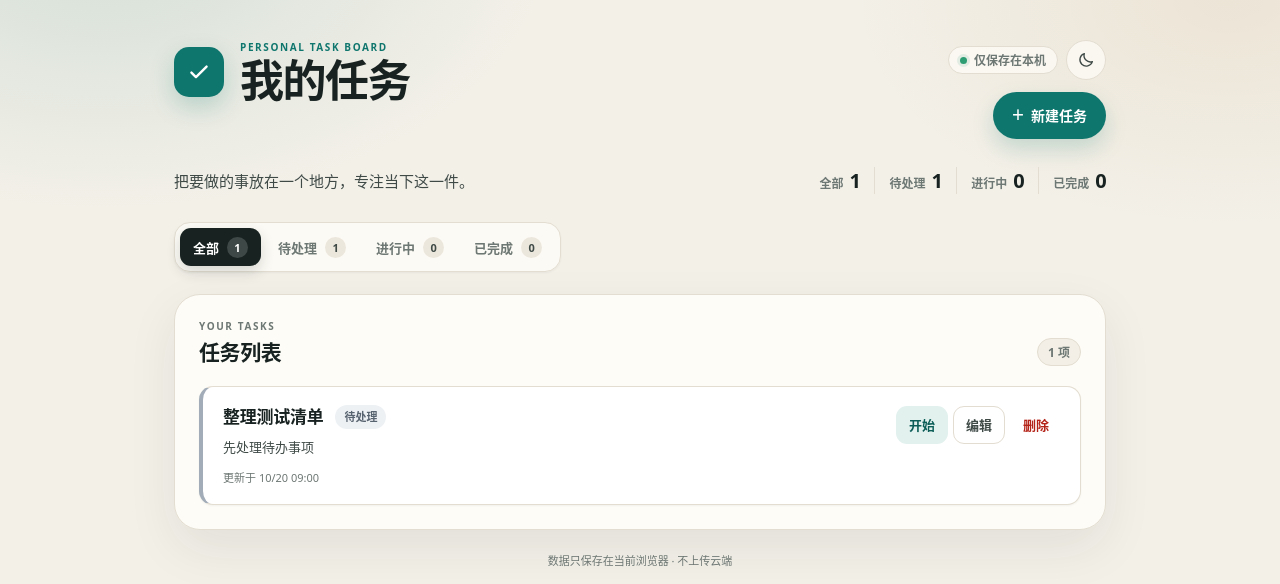
Test: status transitions and feedback › cycles through todo, doing, and done, then reopens
Expected: the text "待处理" next to "整理测试清单" is shown, [344, 409, 378, 424]
Click the button with aria-label "开始：".
click(922, 425)  # box [896, 406, 948, 444]
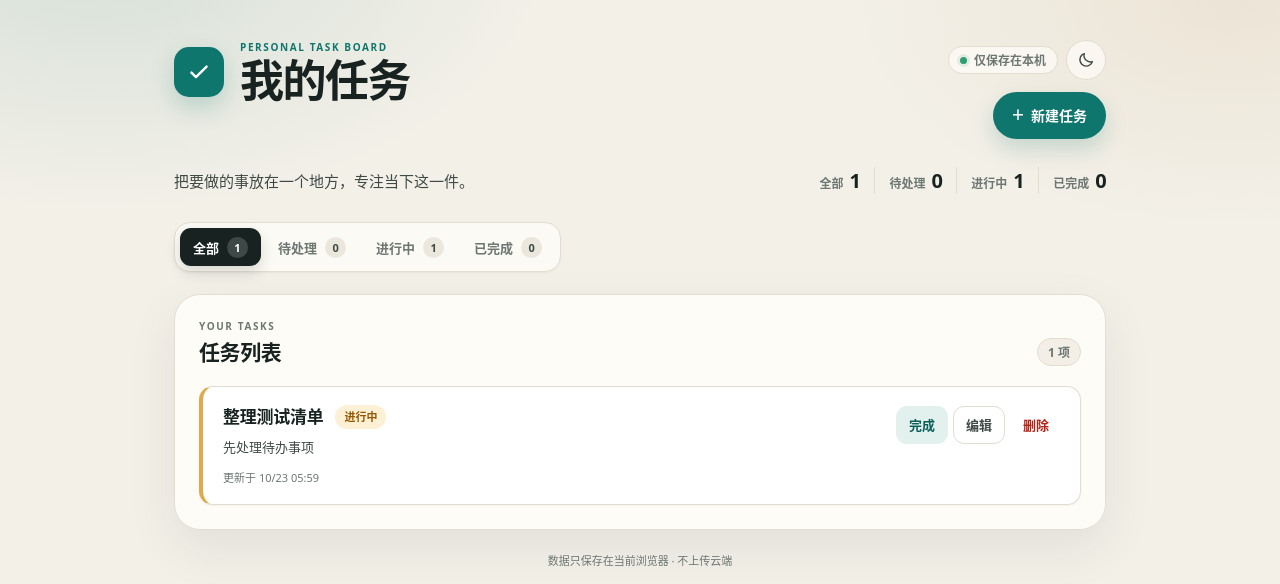
Expected: the text "进行中" next to "整理测试清单" is shown, [344, 409, 378, 424]
Click the button with aria-label "完成：".
click(922, 425)  # box [896, 406, 948, 444]
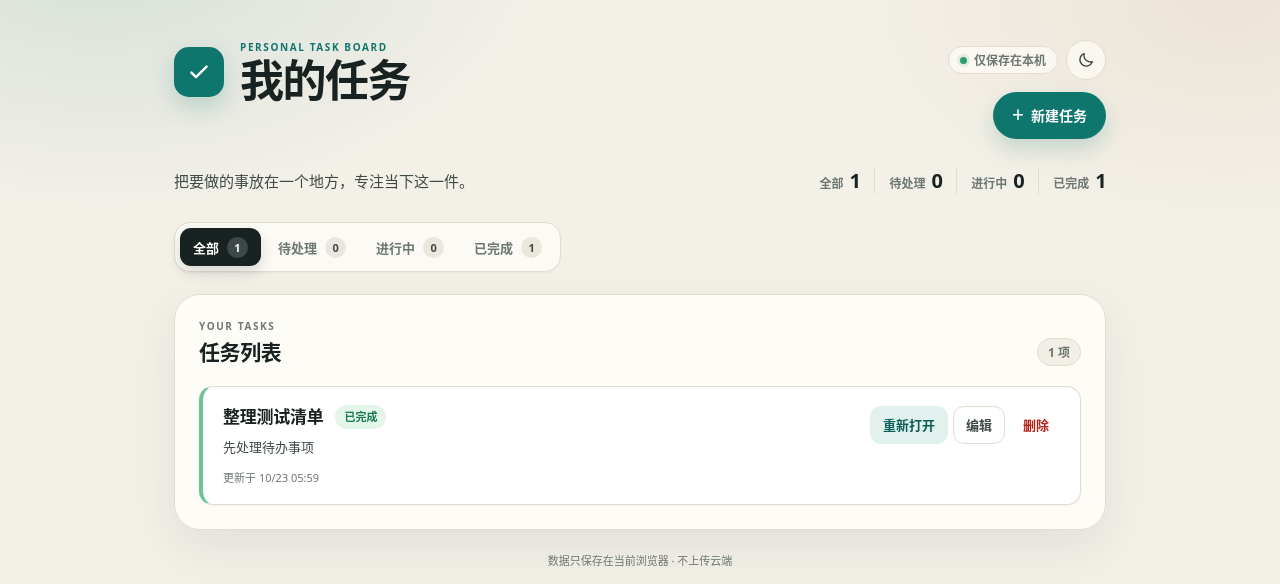
Expected: the text "已完成" next to "整理测试清单" is shown, [344, 409, 378, 424]
Click the button with aria-label "重新打开：".
click(909, 425)  # box [870, 406, 948, 444]
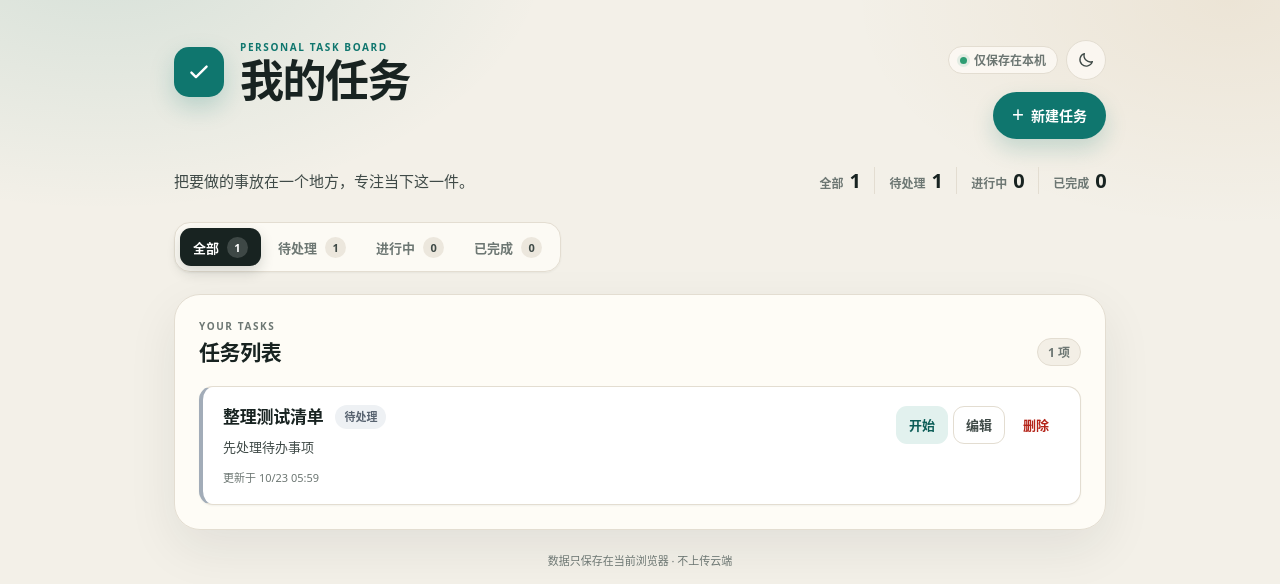
Expected: the text "待处理" next to "整理测试清单" is shown, [344, 409, 378, 424]
